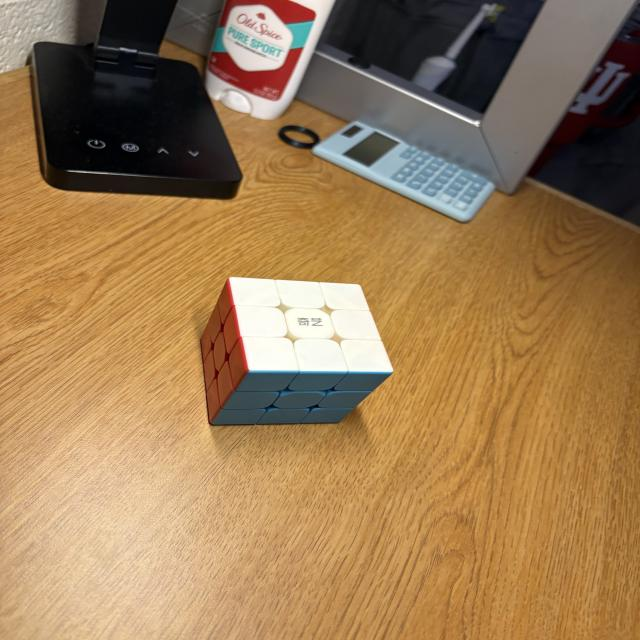Rubiks Cube: (196, 276, 387, 423)
